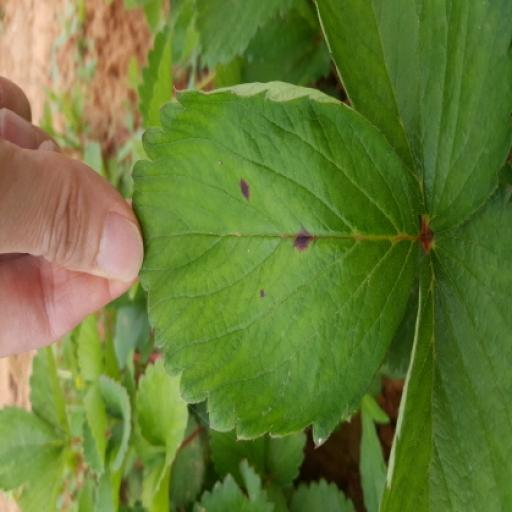Leaf Spot: (129, 81, 422, 450)
